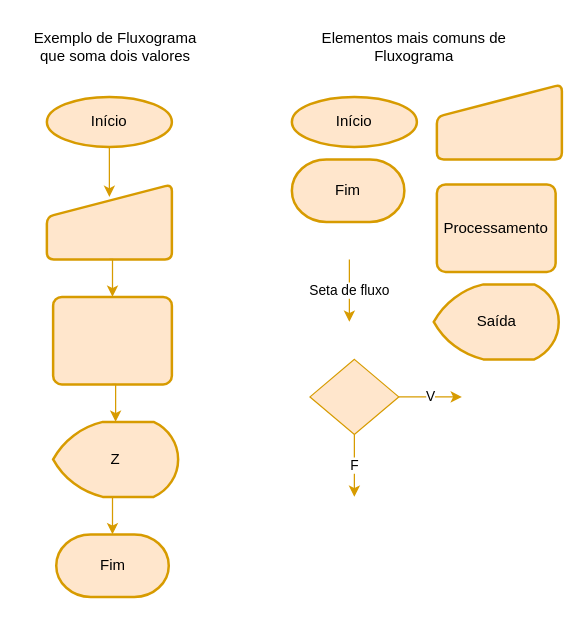
The diagram is 584 pixels wide and 619 high, and some of its shapes have lost their labels. Each missing label, with the centre of its shape:
"Entrada" goes at (498,121).
"Se" goes at (354,396).
"X, Y" goes at (108,221).
"Z = X + Y" goes at (111,340).
